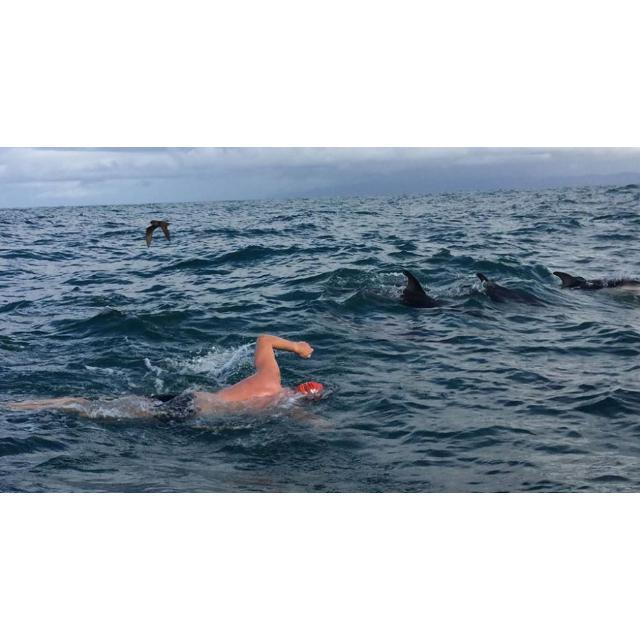human: (1, 332, 338, 424)
